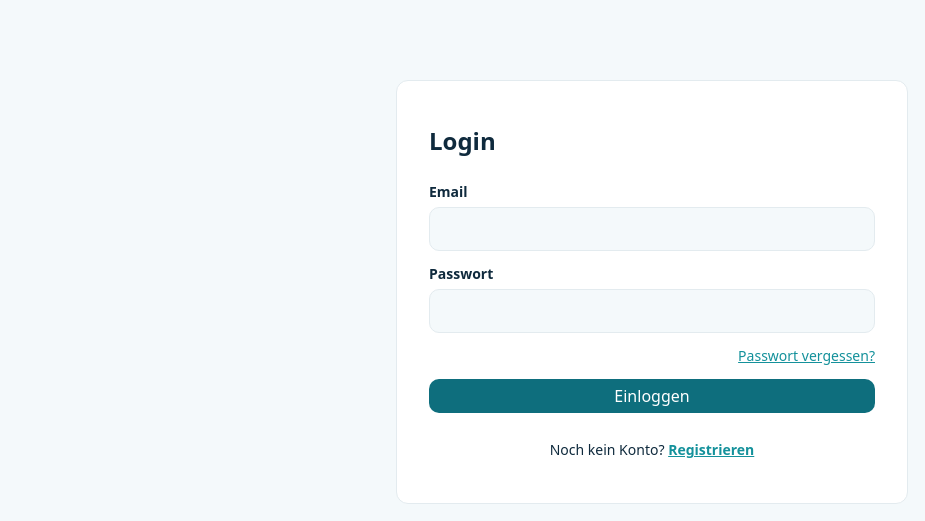
Test: LoginPage › navigates to the register page
Check: the heading "Login" is shown, box x1=429 y1=124 x2=496 y2=157
Click the link "Registrieren": click(711, 450) x1=668 y1=440 x2=754 y2=459
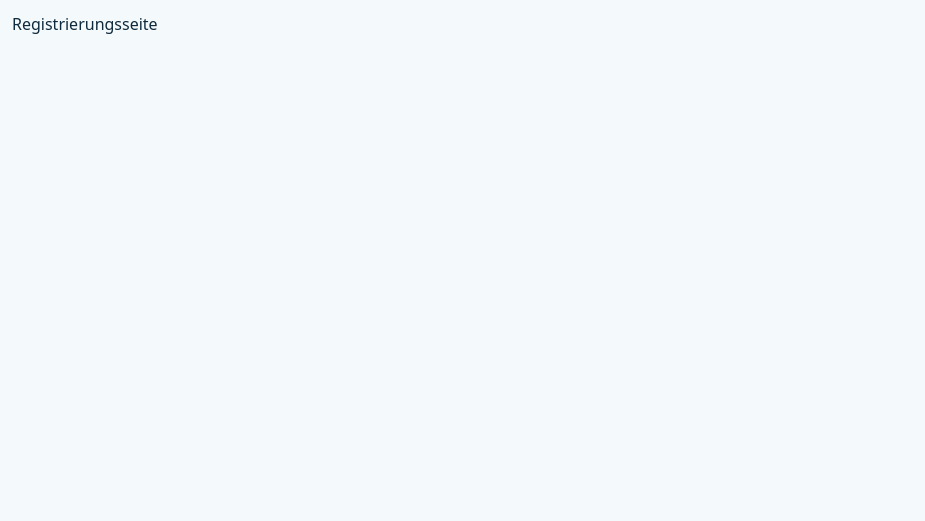
Check: the text "Registrierungsseite" is shown, box x1=12 y1=13 x2=158 y2=35
